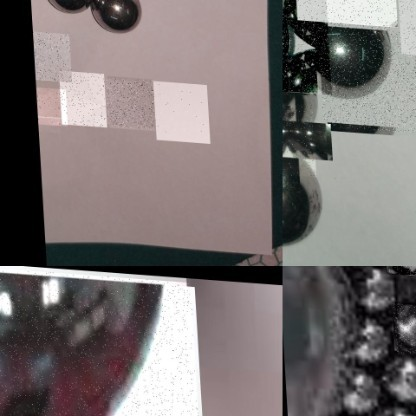ironball: (0, 266, 201, 415), (282, 266, 363, 415), (317, 19, 415, 130), (282, 0, 330, 92), (282, 99, 313, 175), (295, 0, 397, 23), (86, 0, 144, 36), (353, 264, 394, 311), (382, 353, 414, 404), (357, 314, 388, 364), (342, 369, 376, 410), (392, 299, 415, 352), (44, 0, 96, 17)
